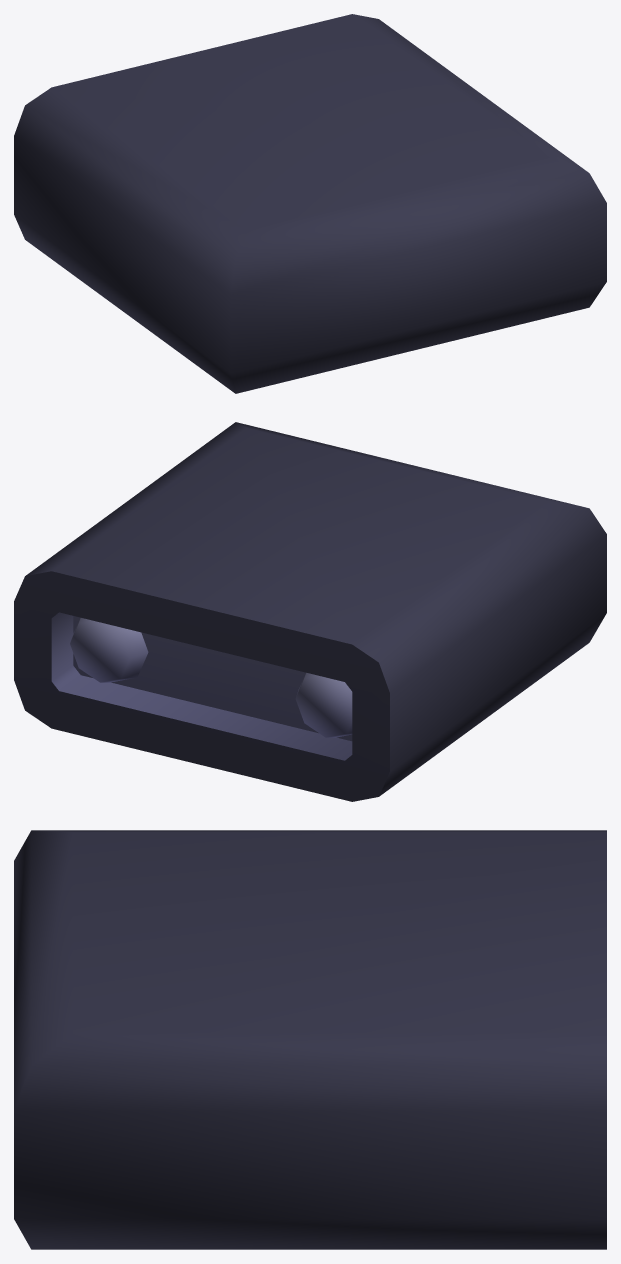
File: conveyor-junction-t.glb
The picture shows the model from 3 angles, top to bottom: view 1: azimuth 30°, elevation 25°; view 2: azimuth 150°, elevation 25°; view 3: azimuth 270°, elevation 25°; orthographic projection. The views are drawn at different scales.
Parts seen in each view (by area): view 1: conveyor-junction-t; view 2: conveyor-junction-t; view 3: conveyor-junction-t.
Part boxes in pixels (bbox=[...]): conveyor-junction-t: bbox=[14, 14, 606, 393]; conveyor-junction-t: bbox=[14, 422, 606, 801]; conveyor-junction-t: bbox=[14, 830, 606, 1249].
Bounding box in the file's own units: 1 × 0.4 × 1.
